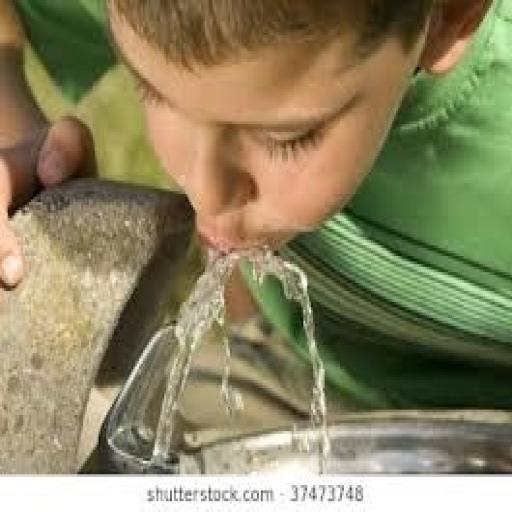drinking: (32, 0, 425, 430)
